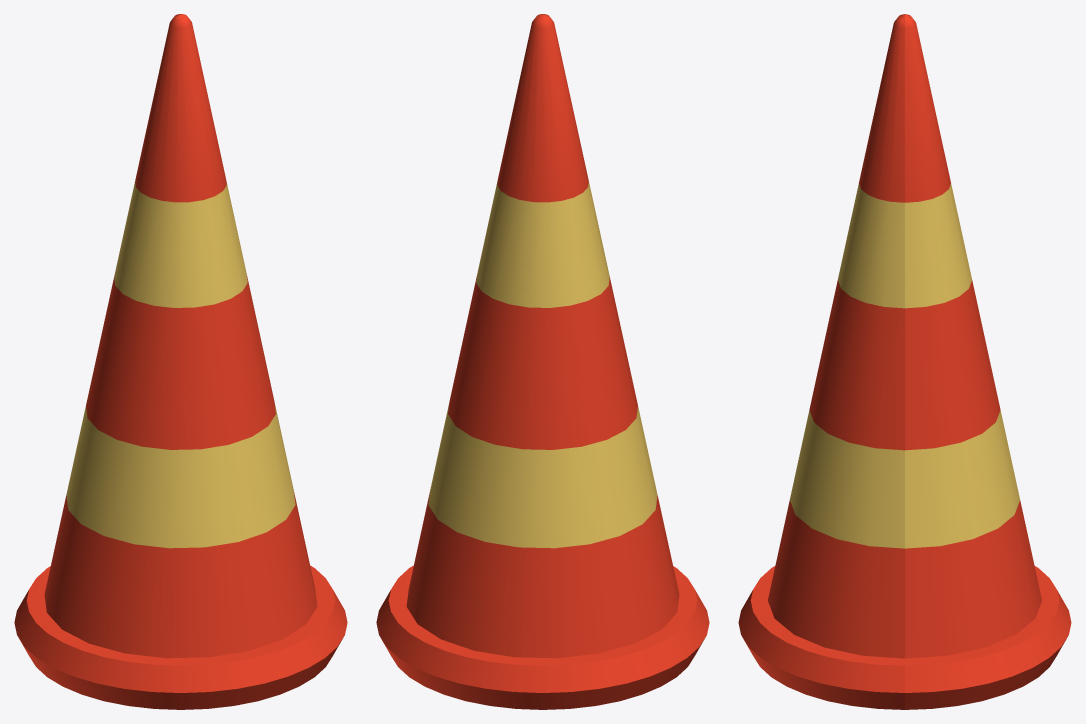
File: TRAFFICCONE.glb
3 views of the same model, side by side, from view 1: azimuth 30°, elevation 25°; view 2: azimuth 150°, elevation 25°; view 3: azimuth 270°, elevation 25° (orthographic).
Visible parts, largest first — view 1: 对象405; view 2: 对象405; view 3: 对象405.
Part boxes in pixels (x1,y1,x2,y2): 对象405: (14, 14, 347, 709); 对象405: (376, 14, 709, 709); 对象405: (738, 14, 1071, 709).
Size of the model in its own units: 0.5179 by 1.08 by 0.5179.
